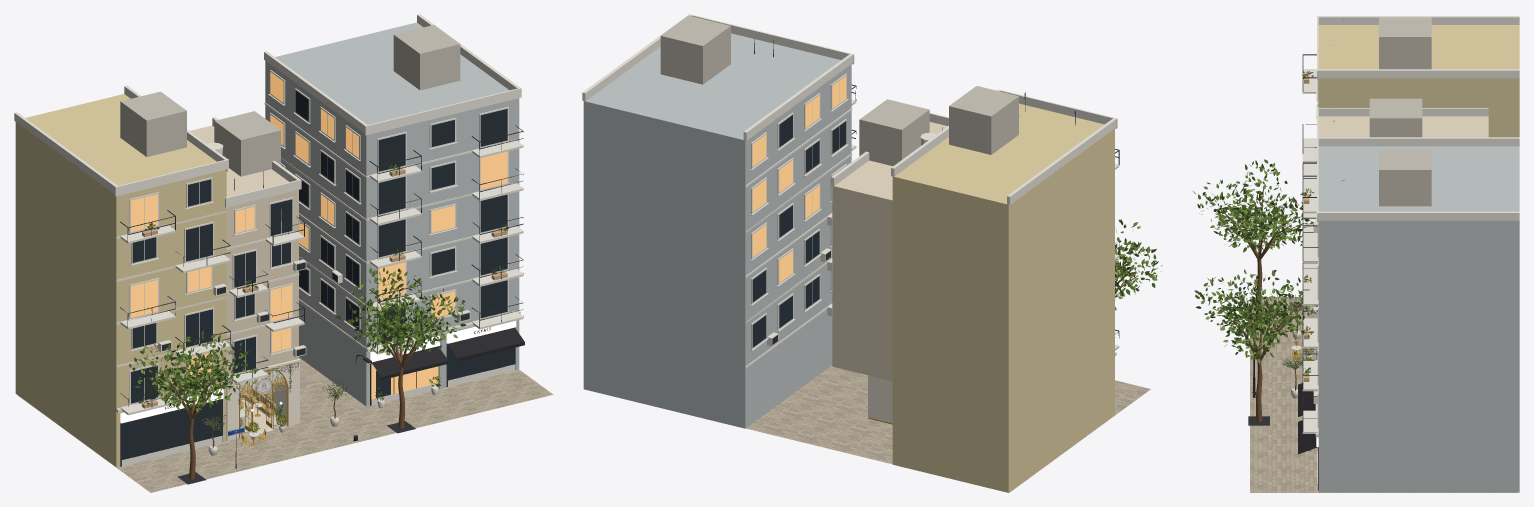
Rendered from boutique-30_lod1.glb.
3 renders of one model, left to right at view 1: azimuth 30°, elevation 25°; view 2: azimuth 150°, elevation 25°; view 3: azimuth 270°, elevation 25°, orthographic. The views are drawn at different scales.
Parts seen in each view (by area): view 1: bw4, bw6, bwtrim, win, paving, bw3, win_lit_n, facade_hi, leaf, iron, leaf2, aw_k (+5 smaller); view 2: bw6, bw4, bwtrim, facade_hi, bw3, paving, win, win_lit_n, plaster, leaf; view 3: bw6, bw4, bwtrim, paving, bw3, leaf, leaf2, facade_hi, trunk, iron, aw_k.
Part boxes in pixels (<box>): bw4: <box>15,94,226,467</box>; bw6: <box>265,22,519,406</box>; bwtrim: <box>14,14,523,466</box>; win: <box>121,90,514,459</box>; paving: <box>17,357,553,492</box>; bw3: <box>120,25,460,176</box>; win_lit_n: <box>131,72,507,399</box>; facade_hi: <box>190,125,298,375</box>; leaf: <box>132,164,508,432</box>; iron: <box>120,125,523,484</box>; leaf2: <box>129,164,508,432</box>; aw_k: <box>372,328,524,379</box>; bw6: <box>583,33,851,428</box>; bw4: <box>892,103,1114,492</box>; bwtrim: <box>582,14,1119,368</box>; facade_hi: <box>832,122,947,381</box>; bw3: <box>660,15,1018,165</box>; paving: <box>746,365,1150,492</box>; win: <box>752,115,846,347</box>; win_lit_n: <box>752,76,846,282</box>; plaster: <box>868,375,892,423</box>; leaf: <box>1115,219,1162,300</box>; bw6: <box>1318,146,1519,492</box>; bw4: <box>1318,25,1519,137</box>; bwtrim: <box>1302,15,1519,490</box>; paving: <box>1250,297,1517,492</box>; bw3: <box>1369,17,1431,206</box>; leaf: <box>1193,70,1317,376</box>; leaf2: <box>1196,72,1317,374</box>; facade_hi: <box>1318,116,1488,137</box>; trunk: <box>1221,189,1310,422</box>; iron: <box>1226,54,1318,490</box>; aw_k: <box>1298,383,1317,454</box>.
Size of the model in its own units: 30.93 by 22.09 by 21.18.
Materials: 63 (17 with a texture image).
